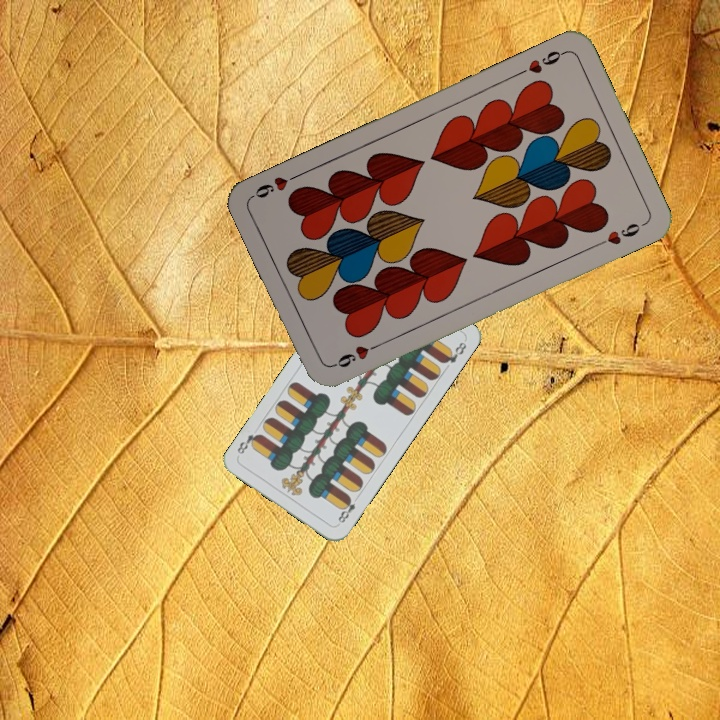E8: (333, 493, 358, 528)
H9: (513, 46, 569, 78), (328, 339, 384, 370)
